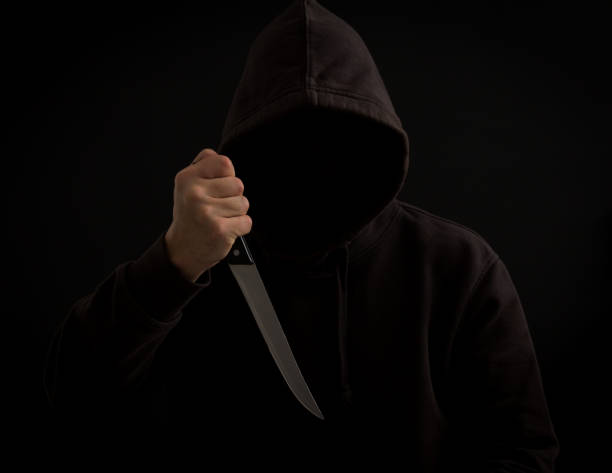knife: (224, 235, 327, 422)
